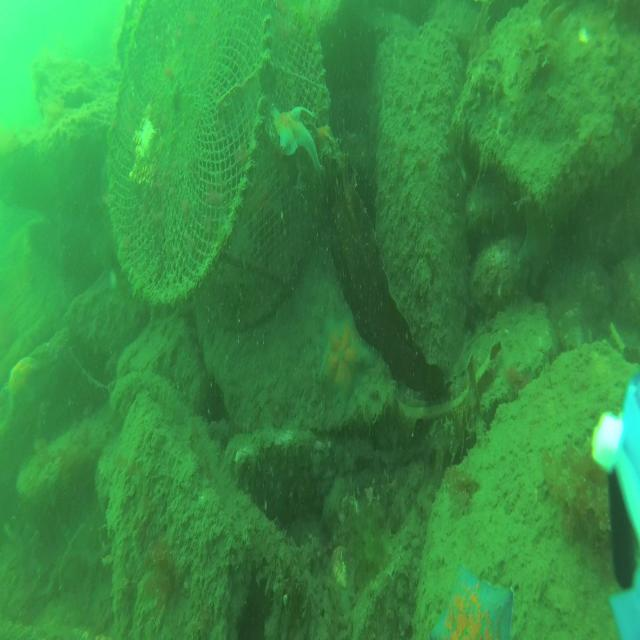starfish: (316, 311, 374, 418), (433, 564, 514, 640), (269, 102, 324, 173), (4, 355, 38, 412)
